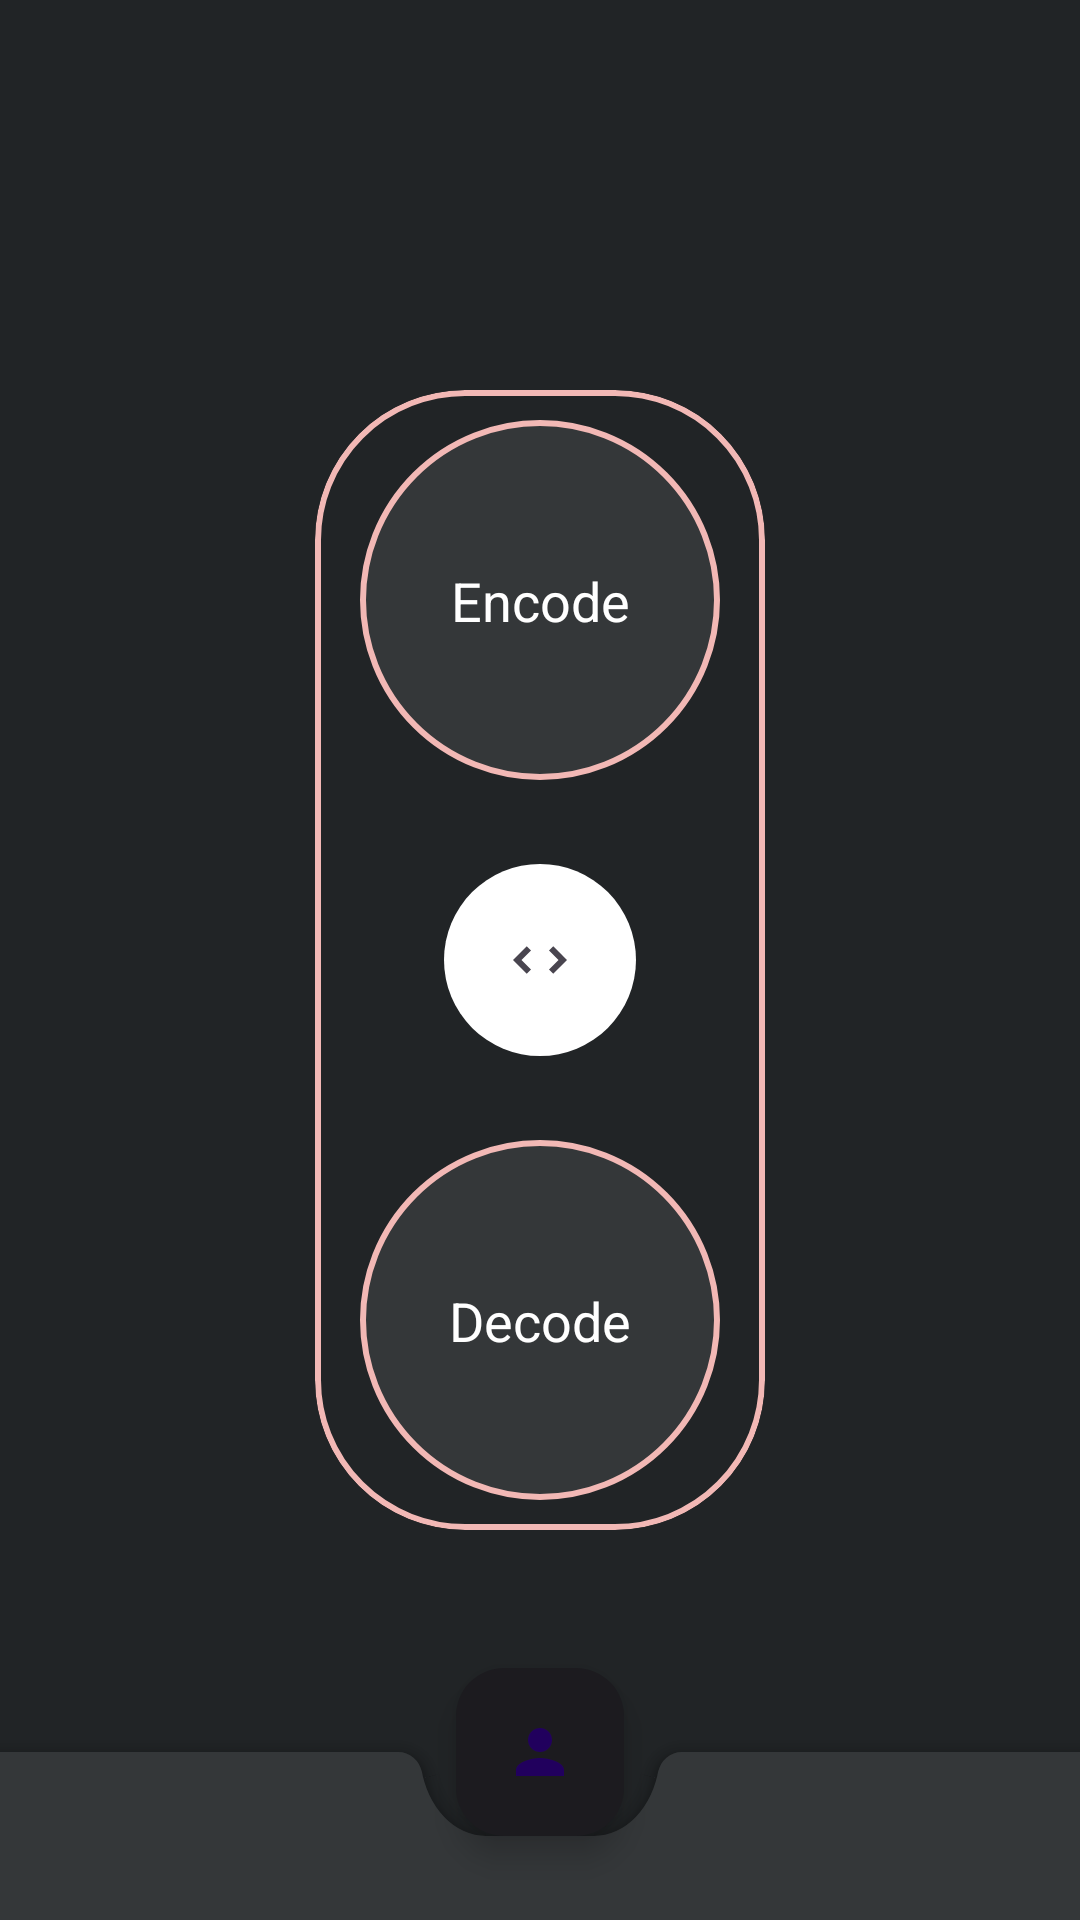

Point at icon controls on the screen. Image size 1080*1920, points as [x,y].
person: [540,1752]
